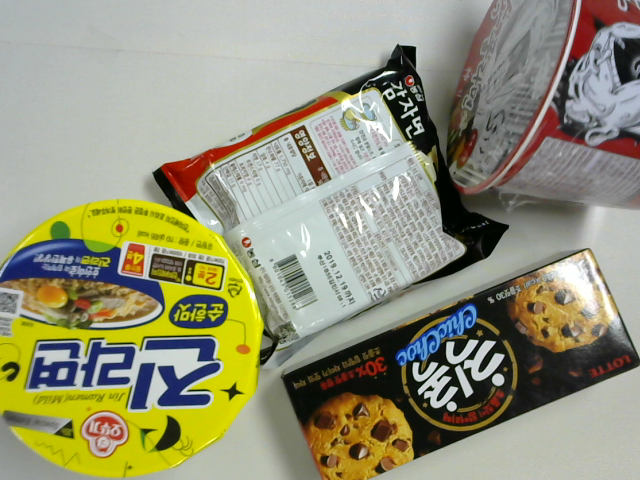Chicchok_Original_2400: (283, 249, 636, 480)
Hejangpul: (450, 1, 639, 212)
Jinlamyeon_Mild_Taste_Large_Cup: (1, 198, 263, 478)
Potato: (152, 43, 506, 352)
